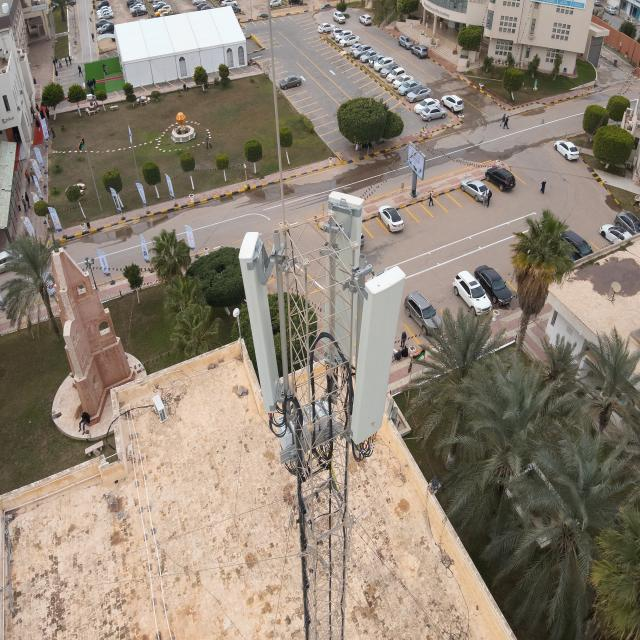antenna: (349, 259, 406, 463), (236, 225, 289, 415), (319, 182, 367, 368)
lighnig-rad: (264, 0, 290, 235)
radio-unit: (275, 397, 342, 458)
